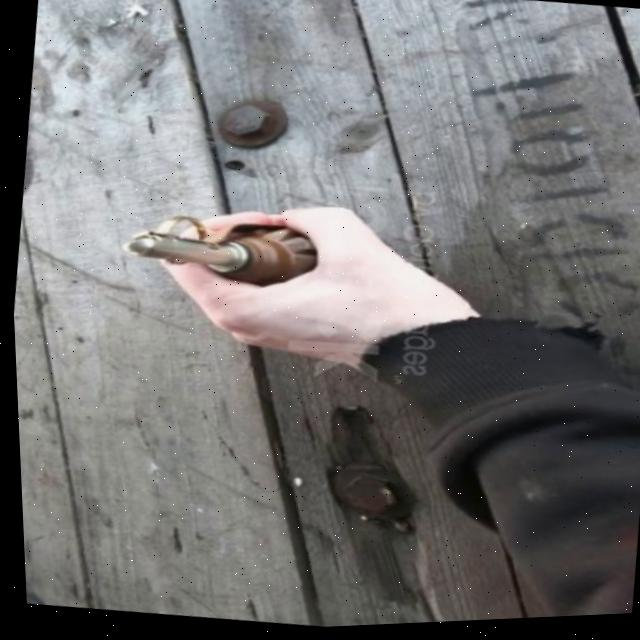grenade: (115, 210, 321, 301)
